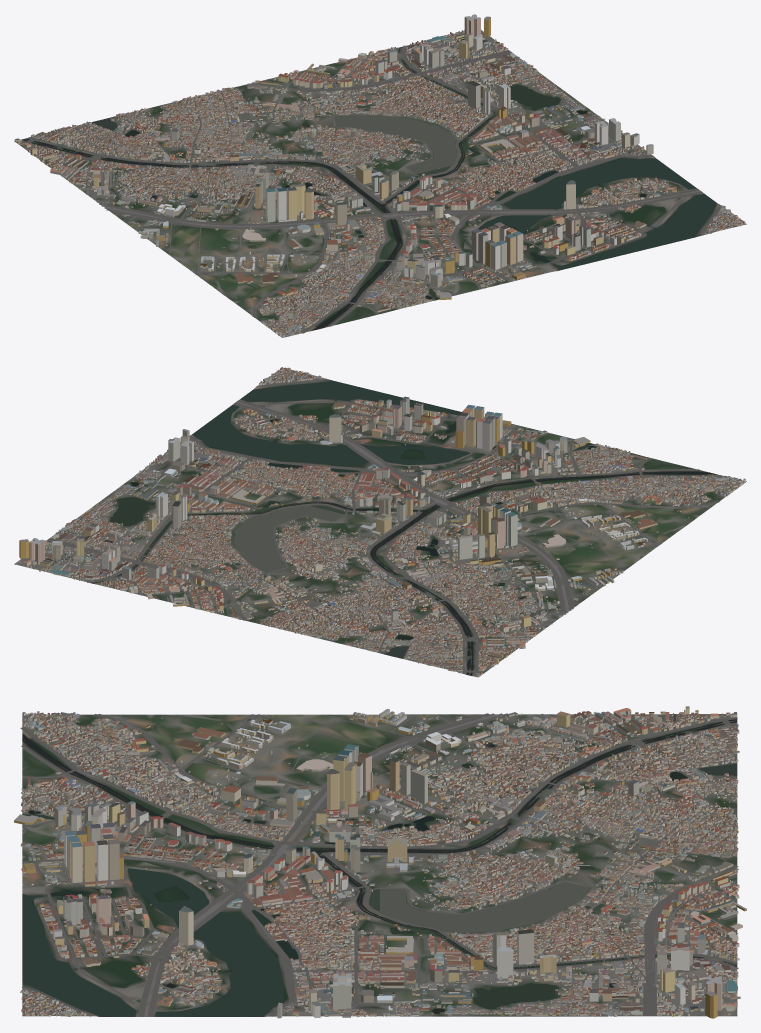
The picture shows the model from 3 angles, top to bottom: view 1: azimuth 30°, elevation 25°; view 2: azimuth 150°, elevation 25°; view 3: azimuth 270°, elevation 25°; orthographic projection. The views are drawn at different scales.
Visible parts, largest first — view 1: buildings, ground, roads, water; view 2: buildings, ground, water, roads; view 3: buildings, ground, water, roads.
Boxes of the visible parts, bbox=[...] form: buildings: bbox=[14, 14, 745, 337]; ground: bbox=[14, 30, 746, 337]; roads: bbox=[21, 42, 728, 333]; water: bbox=[22, 47, 717, 330]; buildings: bbox=[17, 367, 745, 676]; ground: bbox=[14, 369, 746, 677]; water: bbox=[91, 381, 716, 675]; roads: bbox=[46, 373, 727, 676]; buildings: bbox=[14, 706, 746, 1018]; ground: bbox=[22, 714, 737, 1016]; water: bbox=[22, 719, 736, 1016]; roads: bbox=[20, 713, 738, 1016].
Size of the model in its own units: 2856 by 179 by 2874.
